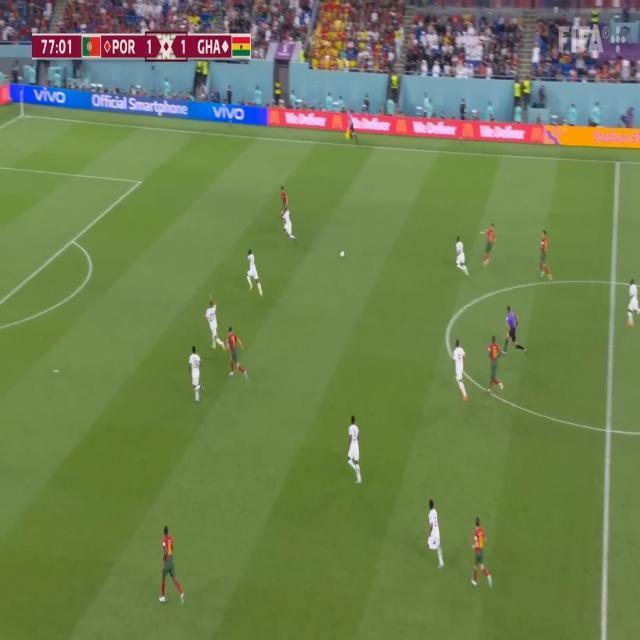football: (337, 235, 350, 266)
